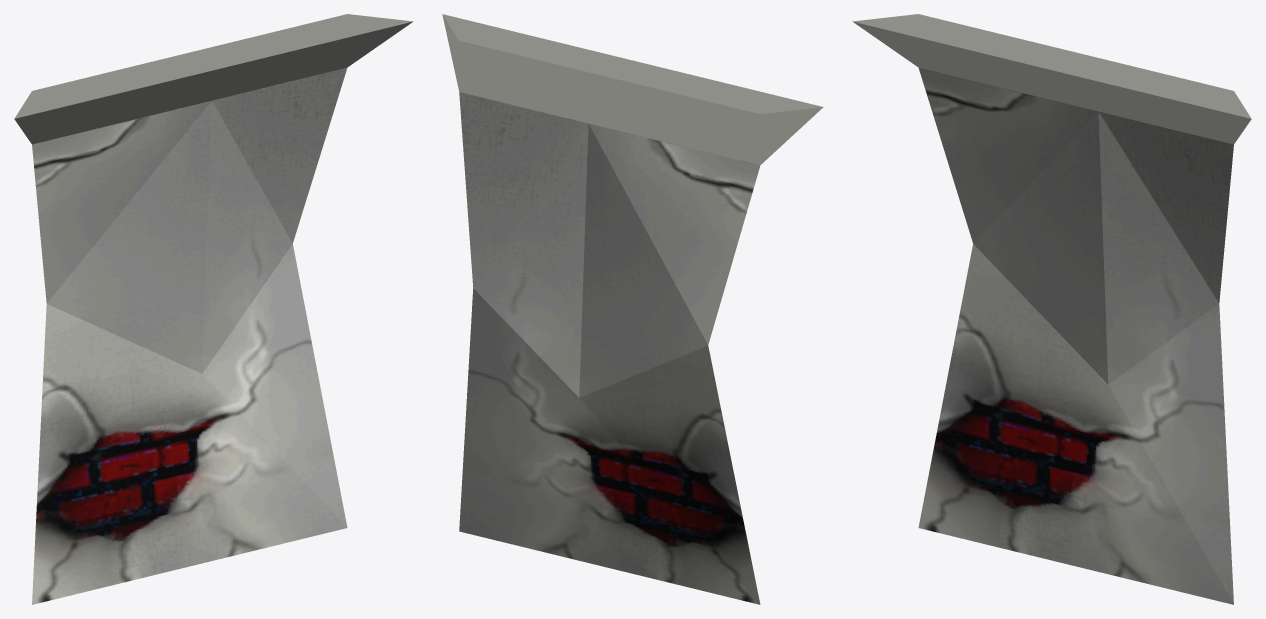
File: W_A1_x [Verwahrlost2]_1611.glb
3 renders of one model, left to right at view 1: azimuth 30°, elevation 25°; view 2: azimuth 150°, elevation 25°; view 3: azimuth 330°, elevation 25°, orthographic. The views are drawn at different scales.
Parts seen in each view (by area): view 1: polySurfaceShape1201, polySurfaceShape1203; view 2: polySurfaceShape1201, polySurfaceShape1203; view 3: polySurfaceShape1201, polySurfaceShape1203.
Boxes of the visible parts, x1,y1,x2,y2 form: polySurfaceShape1201: [32, 68, 347, 604]; polySurfaceShape1203: [14, 14, 413, 144]; polySurfaceShape1201: [459, 92, 760, 604]; polySurfaceShape1203: [442, 14, 823, 165]; polySurfaceShape1201: [918, 68, 1233, 604]; polySurfaceShape1203: [852, 14, 1251, 144].
Size of the model in its own units: 0.3166 by 0.3891 by 0.0607.
2 materials, 2 textured.
